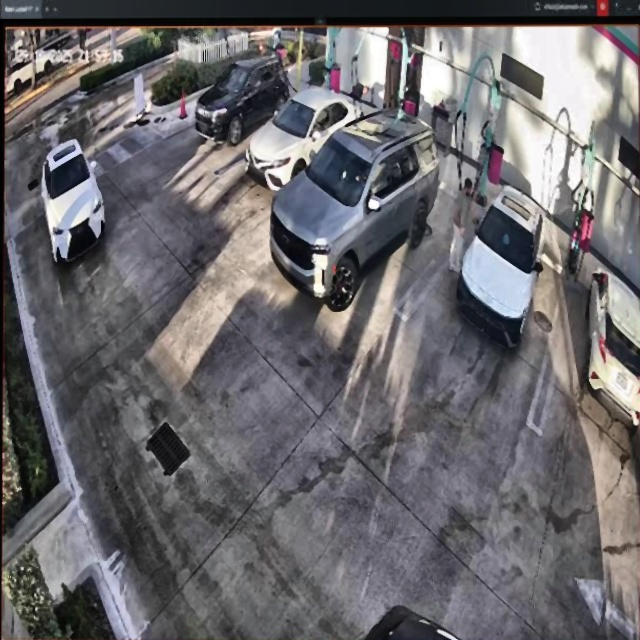Car: (271, 111, 441, 307), (456, 184, 546, 350), (248, 89, 364, 189)
